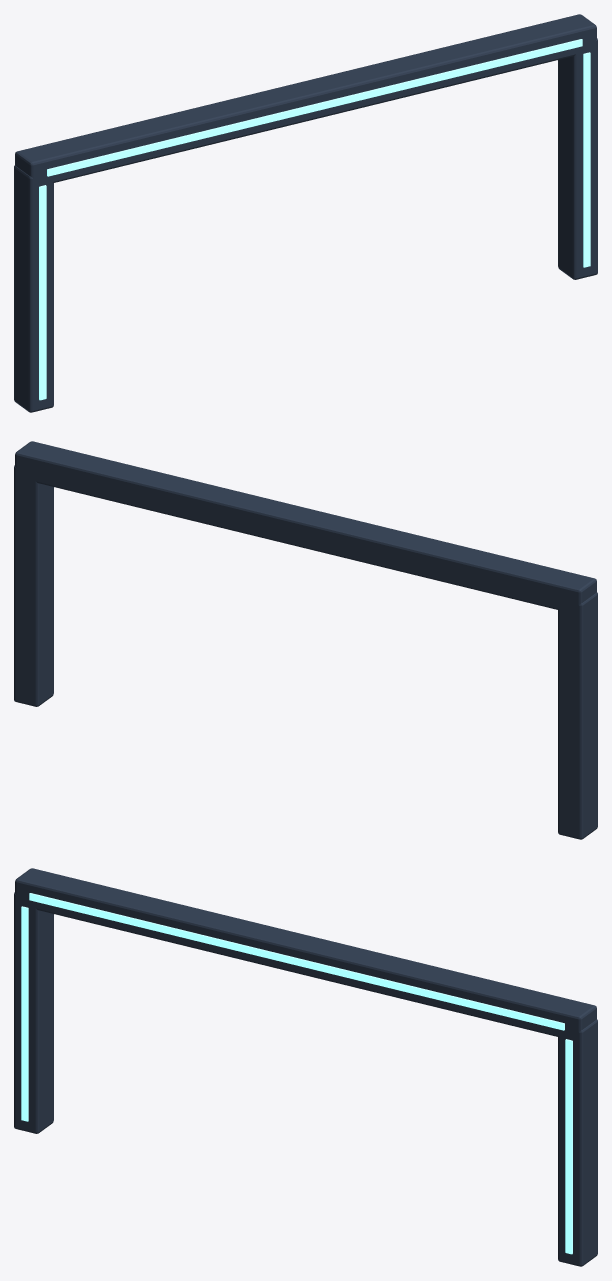
File: CheckpointGate.fbx
3 renders of one model, top to bottom at view 1: azimuth 30°, elevation 25°; view 2: azimuth 150°, elevation 25°; view 3: azimuth 330°, elevation 25°, orthographic.
Visible parts, largest first — view 1: Gate_Header, Gate_Pillar, Gate_Pillar.001, Gate_Light, Gate_Neon, Gate_Neon.001; view 2: Gate_Header, Gate_Pillar, Gate_Pillar.001; view 3: Gate_Header, Gate_Pillar.001, Gate_Pillar, Gate_Light, Gate_Neon, Gate_Neon.001.
Part boxes in pixels (x1,y1,x2,y2): Gate_Header: (15, 14, 596, 186); Gate_Pillar: (14, 165, 53, 412); Gate_Pillar.001: (558, 38, 597, 279); Gate_Light: (47, 39, 582, 176); Gate_Neon: (39, 185, 46, 400); Gate_Neon.001: (583, 52, 590, 267); Gate_Header: (15, 441, 596, 613); Gate_Pillar: (558, 592, 597, 839); Gate_Pillar.001: (14, 465, 53, 706); Gate_Header: (15, 868, 596, 1040); Gate_Pillar.001: (558, 1019, 597, 1266); Gate_Pillar: (14, 892, 53, 1133); Gate_Light: (29, 893, 564, 1030); Gate_Neon: (21, 906, 28, 1121); Gate_Neon.001: (565, 1039, 572, 1254).
Size of the model in its own units: 1255 by 528 by 68.5.
